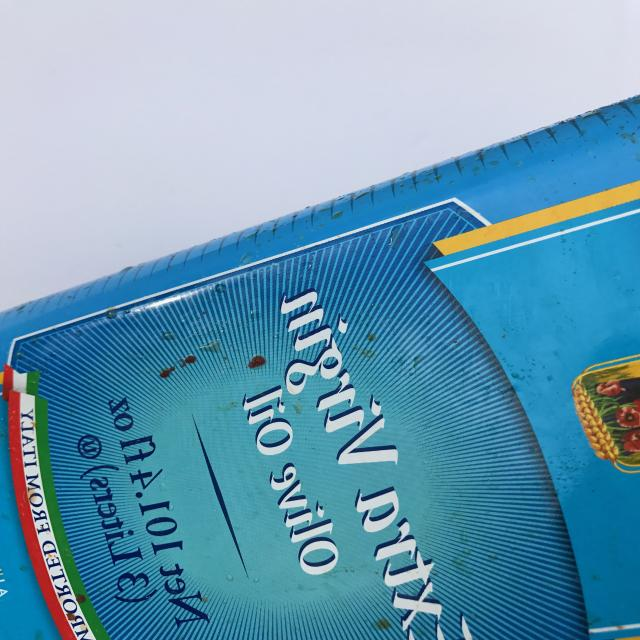metal: (0, 94, 640, 640)
